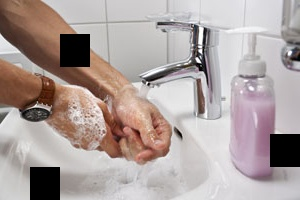washing hand: (39, 19, 217, 183)
